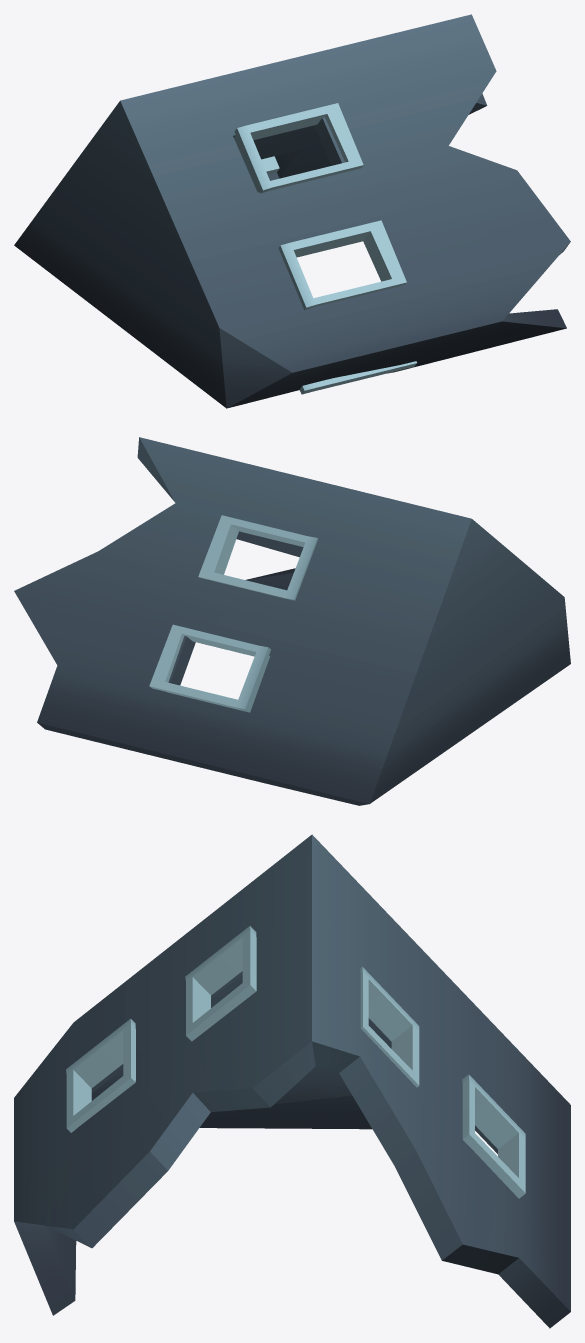
The model's file is Building_T05.fbx.
The picture shows the model from 3 angles, top to bottom: view 1: azimuth 30°, elevation 25°; view 2: azimuth 150°, elevation 25°; view 3: azimuth 270°, elevation 25°; orthographic projection. The views are drawn at different scales.
Visible parts, largest first — view 1: Building_T05; view 2: Building_T05; view 3: Building_T05.
Part boxes in pixels (bbox=[...]): Building_T05: bbox=[14, 14, 570, 408]; Building_T05: bbox=[14, 437, 570, 805]; Building_T05: bbox=[14, 834, 570, 1328].
Size of the model in its own units: 29.31 by 15.78 by 27.74.
